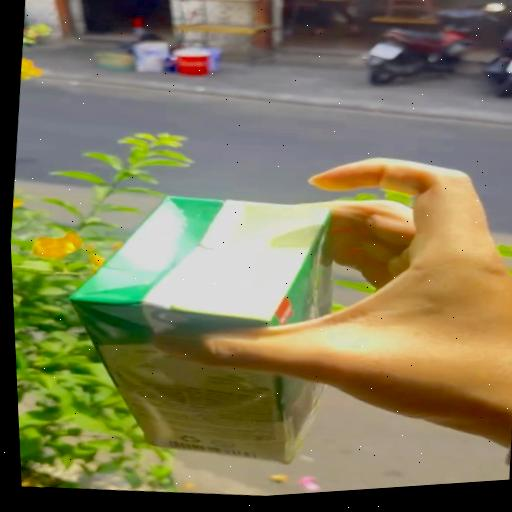ly_giay: (72, 196, 333, 464)
